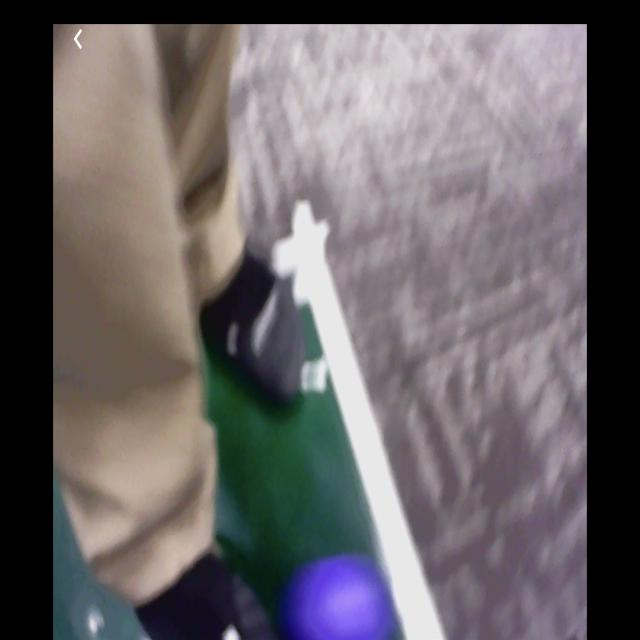ball: (285, 552, 395, 640)
